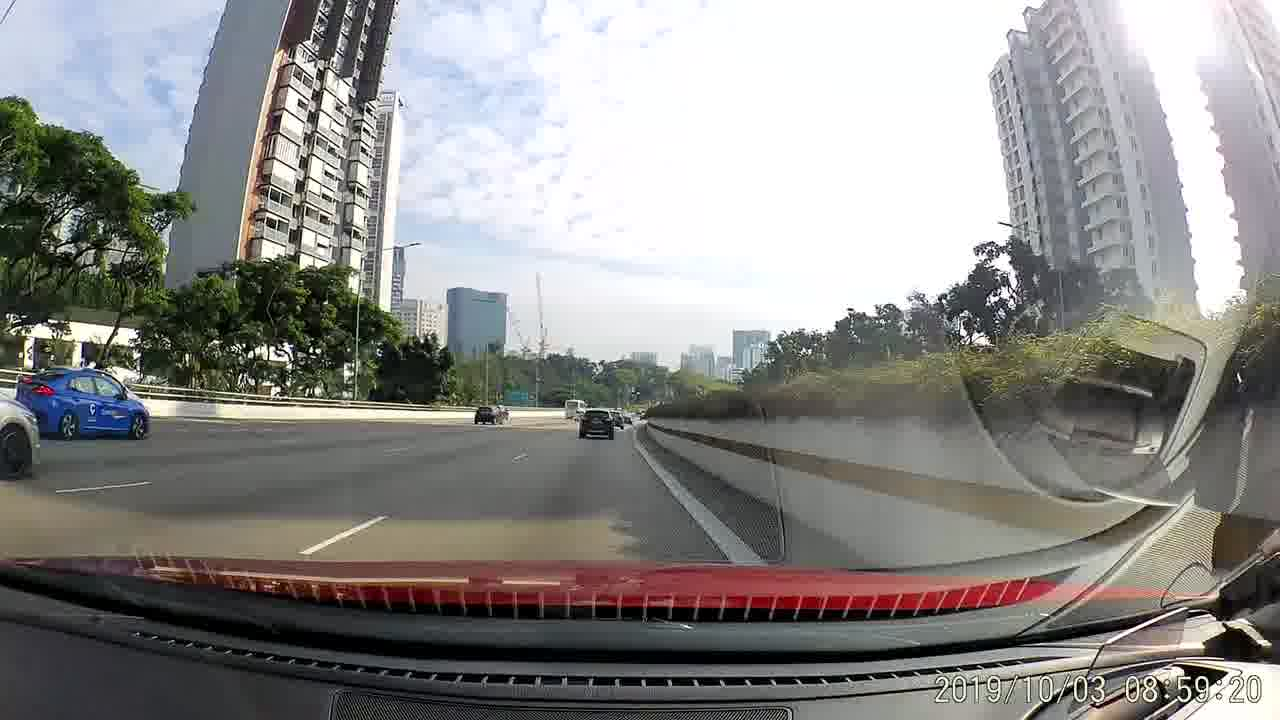car: (9, 365, 150, 439), (576, 404, 616, 442), (474, 401, 507, 427)
